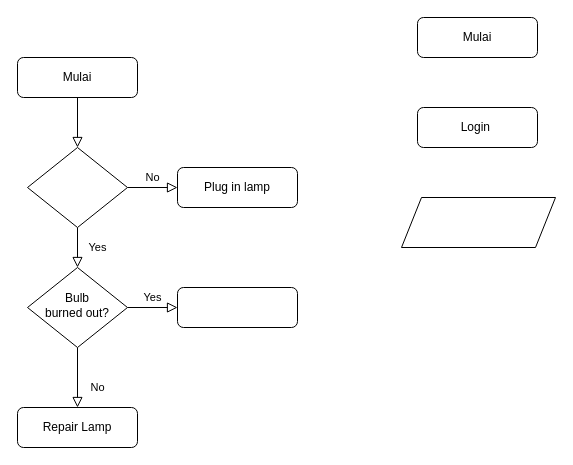
Some shapes in this 573 by 465 pixel diagram are drawn without their labels. The box of each missing label's shape, as (x1, y1, x2, y2) in pixels:
Input username dan password: (400, 196, 556, 248)
Lamp plugged in?: (26, 146, 128, 228)
Replace Bulb: (176, 286, 298, 328)
